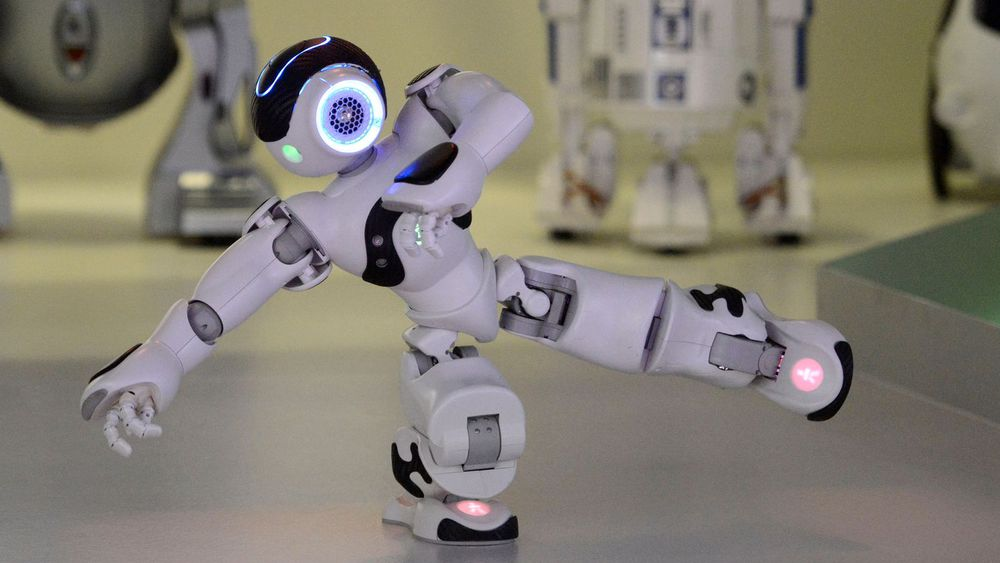nao: (61, 30, 871, 553)
